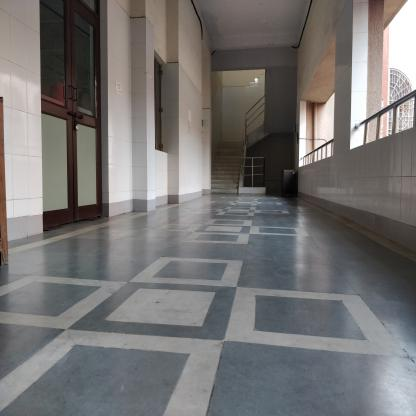stairs: (214, 157, 239, 196)
